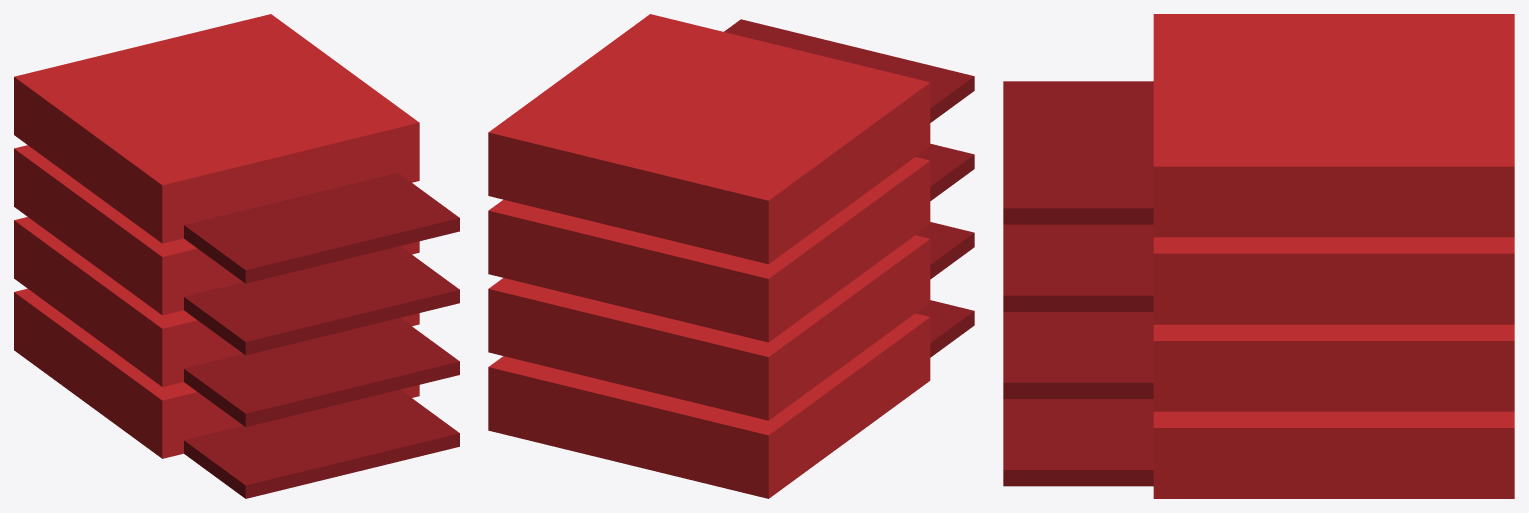
File: capstack.glb
3 renders of one model, left to right at view 1: azimuth 30°, elevation 25°; view 2: azimuth 150°, elevation 25°; view 3: azimuth 270°, elevation 25°, orthographic. The views are drawn at different scales.
Parts seen in each view (by area): view 1: capstack; view 2: capstack; view 3: capstack.
Boxes of the visible parts, <box> form: capstack: <box>14,14,459,498</box>; capstack: <box>488,14,974,498</box>; capstack: <box>1003,14,1514,498</box>.
Size of the model in its own units: 0.3 by 0.305 by 0.425.
1 material, 1 textured.
